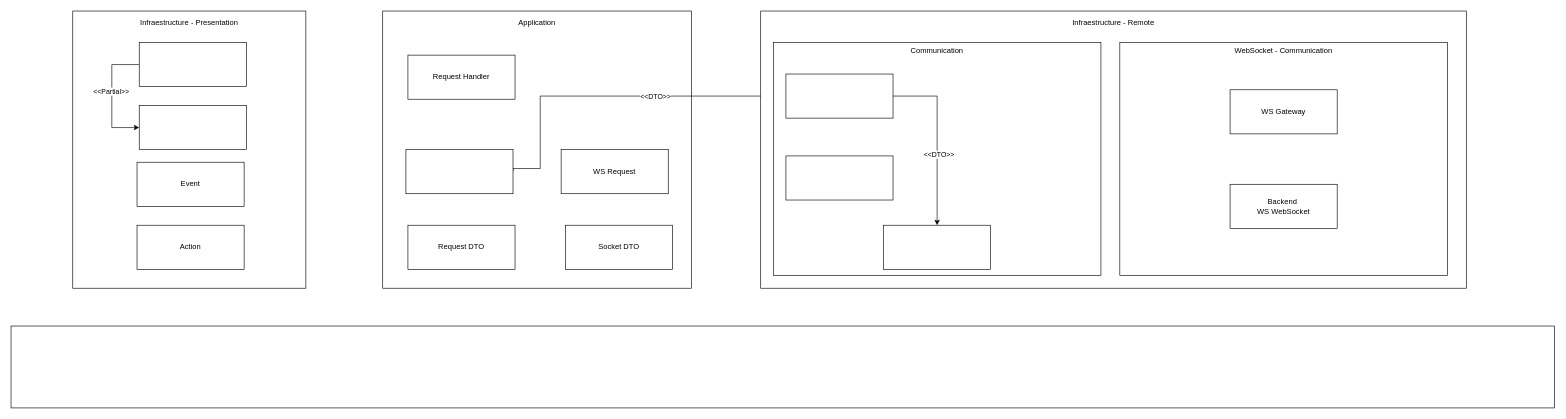
Some shapes in this 1566 by 419 pixel diagram are drawn without their labels. The shapes that lost their labels are listed below. From the top down, each one's centre as x and y in pixels, then its label:
At (x=192, y=64): "View".
At (x=839, y=95): "HTTP Gateway".
At (x=192, y=127): "Partial UI".
At (x=459, y=171): "HTTP Request".
At (x=839, y=177): "API DTO".
At (x=937, y=247): "Backend API".
At (x=782, y=366): "Cross Cutting".
